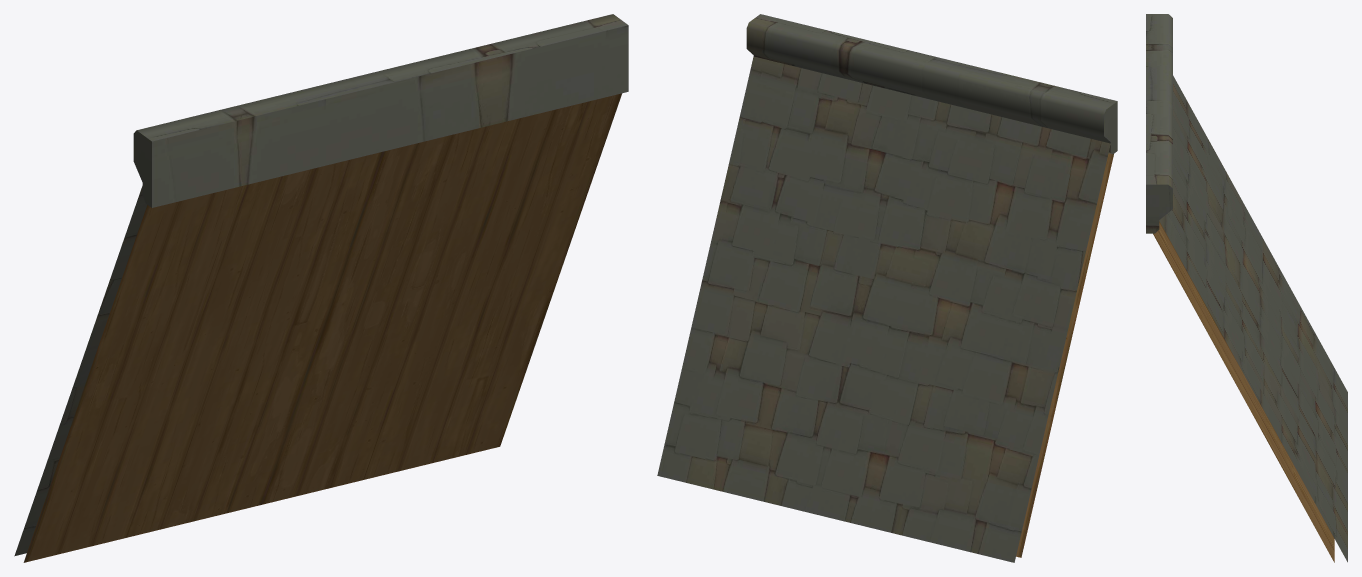
Rendered from ARC0510004.fbx.
3 views of the same model, side by side, from view 1: azimuth 30°, elevation 25°; view 2: azimuth 150°, elevation 25°; view 3: azimuth 270°, elevation 25° (orthographic). The views are drawn at different scales.
Visible parts, largest first — view 1: smARC0510004; view 2: smARC0510004; view 3: smARC0510004.
Boxes of the visible parts, x1=… form: smARC0510004: x1=14, y1=14, x2=628, y2=562; smARC0510004: x1=657, y1=14, x2=1117, y2=562; smARC0510004: x1=1146, y1=14, x2=1347, y2=562.
Bounding box in the file's own units: 300 × 310 × 150.
1 material, 1 textured.
